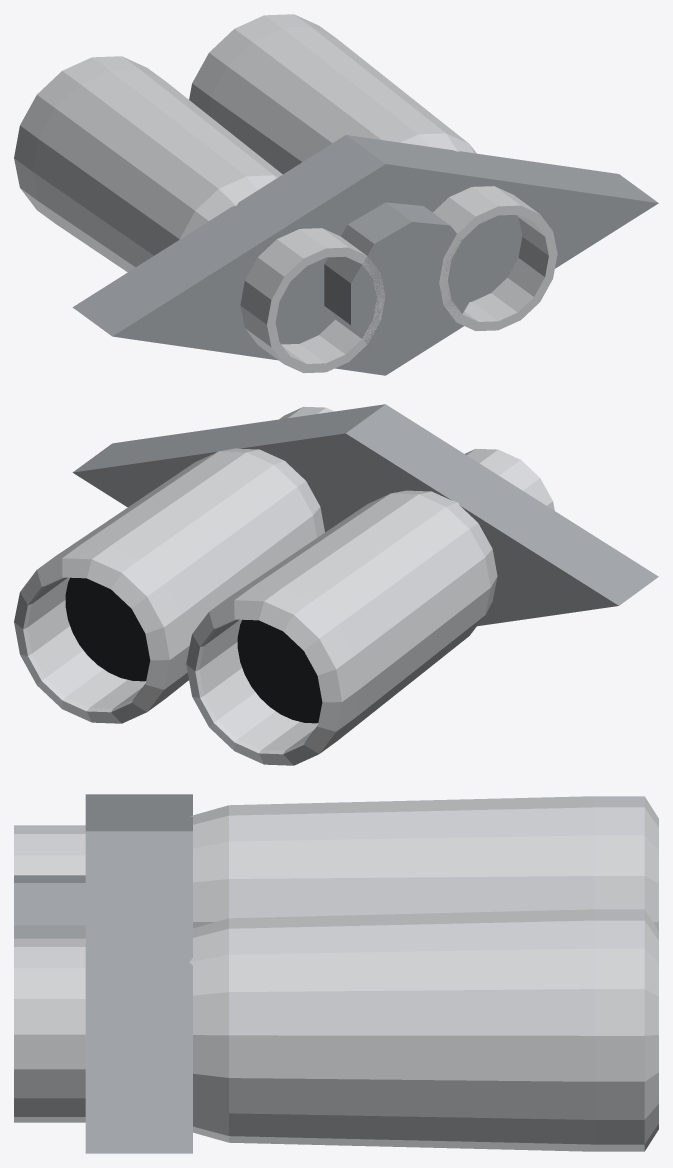
The model's file is streetline_57.glb.
3 renders of one model, top to bottom at view 1: azimuth 30°, elevation 25°; view 2: azimuth 150°, elevation 25°; view 3: azimuth 270°, elevation 25°, orthographic. The views are drawn at different scales.
Parts seen in each view (by area): view 1: model; view 2: model; view 3: model.
Boxes of the visible parts, x1,y1,x2,y2 form: model: (14,14,658,375); model: (14,404,658,765); model: (14,794,658,1153).
Size of the model in its own units: 0.2372 by 0.0878 by 0.18.
Materials: 3 (1 with a texture image).
